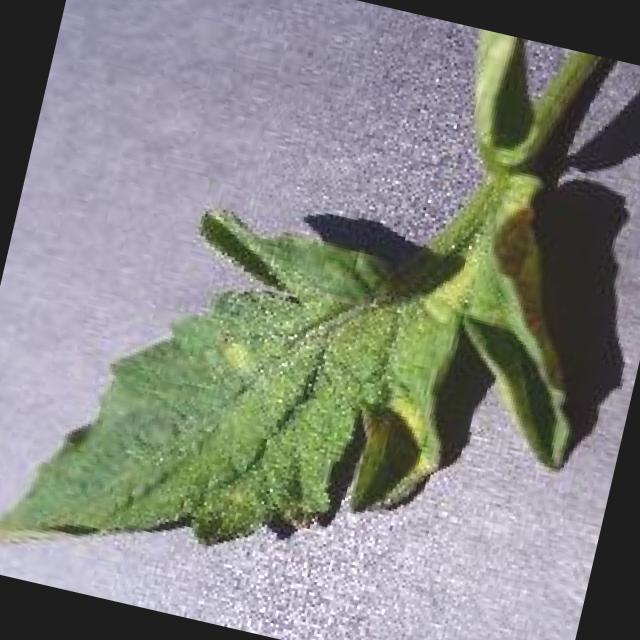leaf mold: (0, 29, 618, 549)
